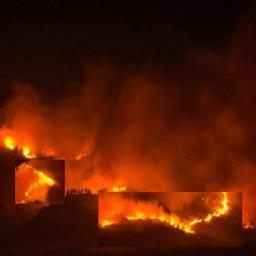Low smoke: (31, 60, 250, 161)
Medium fire: (99, 192, 236, 238), (14, 159, 66, 203)
Small fire: (4, 131, 36, 158)
